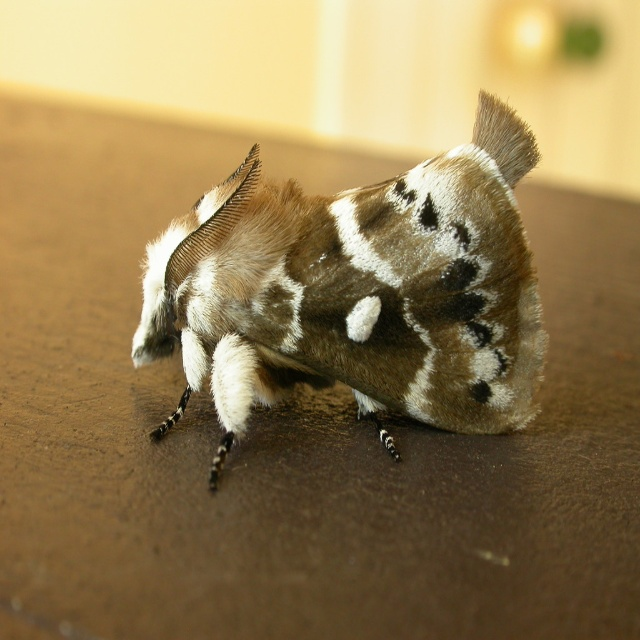Moths and butterflies: (129, 85, 553, 499)
